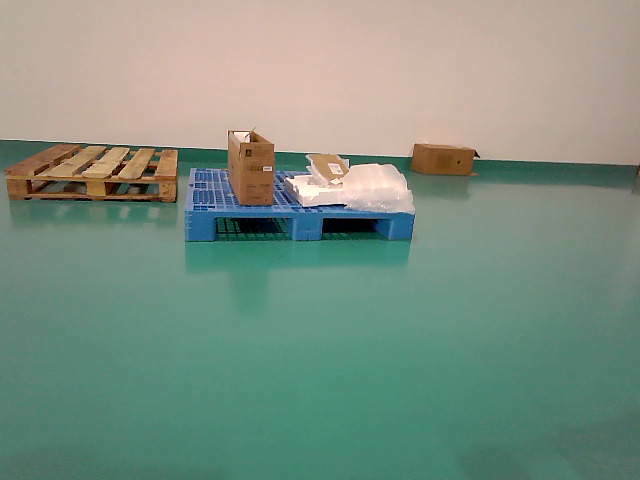block: (185, 209, 219, 240), (292, 209, 324, 240), (387, 212, 415, 242)
front: (184, 210, 410, 242)
hole pallet: (215, 217, 295, 241), (321, 218, 388, 239)
